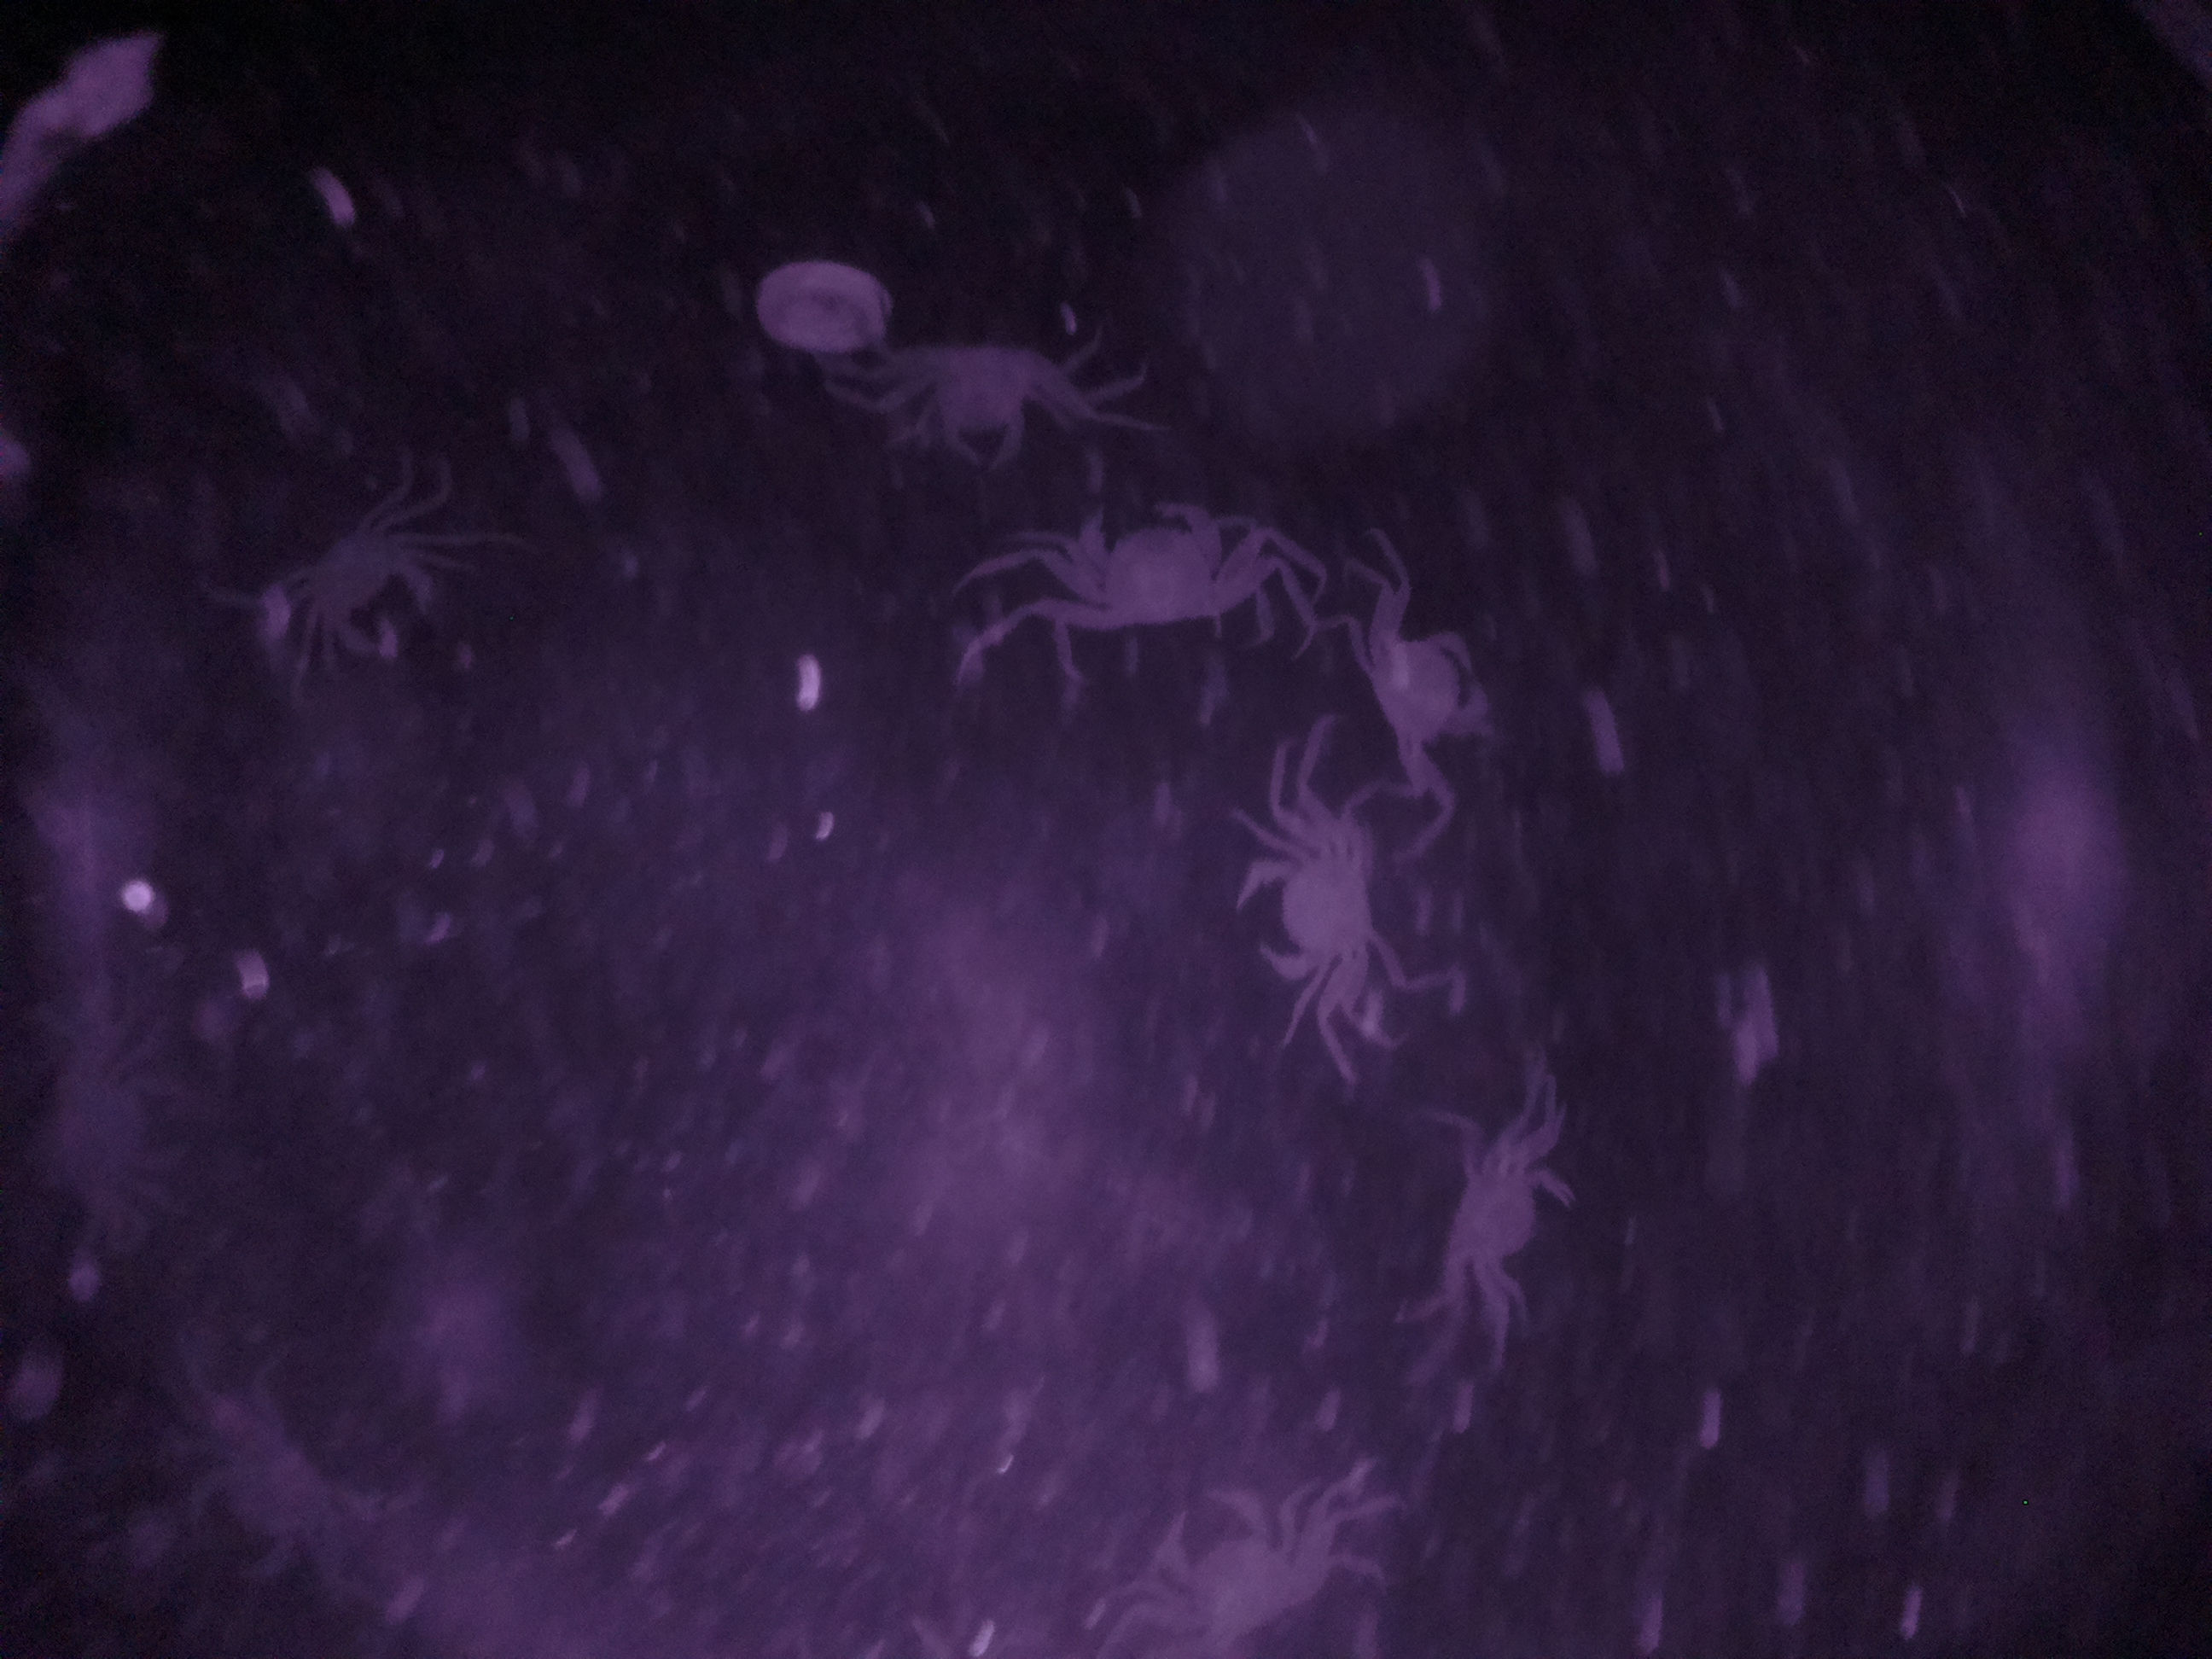Crab: (1418, 1084, 1592, 1344), (1111, 1462, 1343, 1656), (1008, 476, 1277, 641), (1322, 582, 1524, 796), (1228, 819, 1432, 997), (272, 495, 465, 678), (874, 321, 1085, 484)
